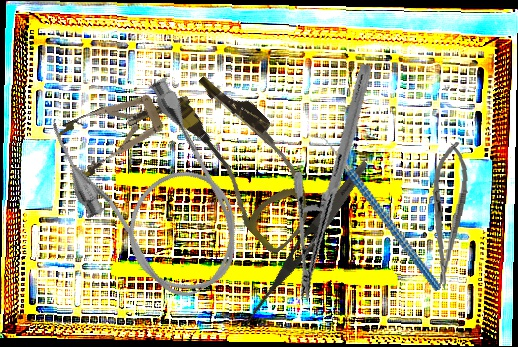Cannula: (39, 64, 266, 322), (151, 64, 339, 257)
Chopper: (307, 109, 442, 314)
Dressing Forceps: (240, 157, 373, 330)
Needle Holder: (248, 62, 422, 302), (423, 140, 472, 290)
Speculum: (52, 73, 201, 183)
